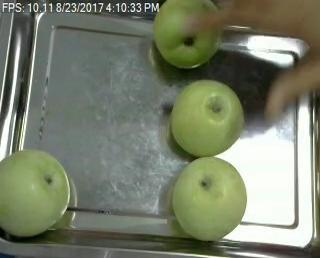fruit: (170, 78, 254, 155), (169, 159, 245, 242), (0, 152, 72, 237), (157, 0, 227, 64)
